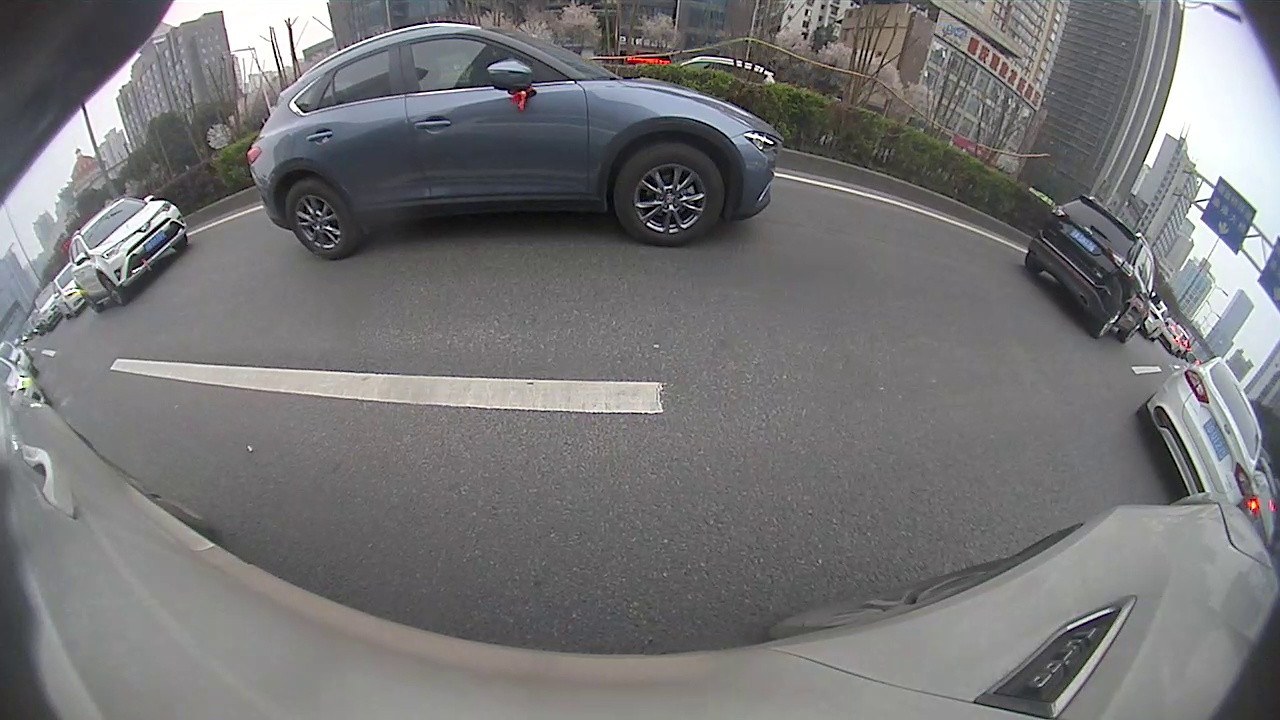car: (1014, 200, 1279, 436), (944, 175, 1128, 255), (829, 169, 916, 222), (798, 160, 862, 197), (906, 182, 944, 222)
front: (1016, 240, 1067, 299), (955, 218, 977, 244)
rear: (1200, 356, 1269, 441), (850, 195, 865, 214)
